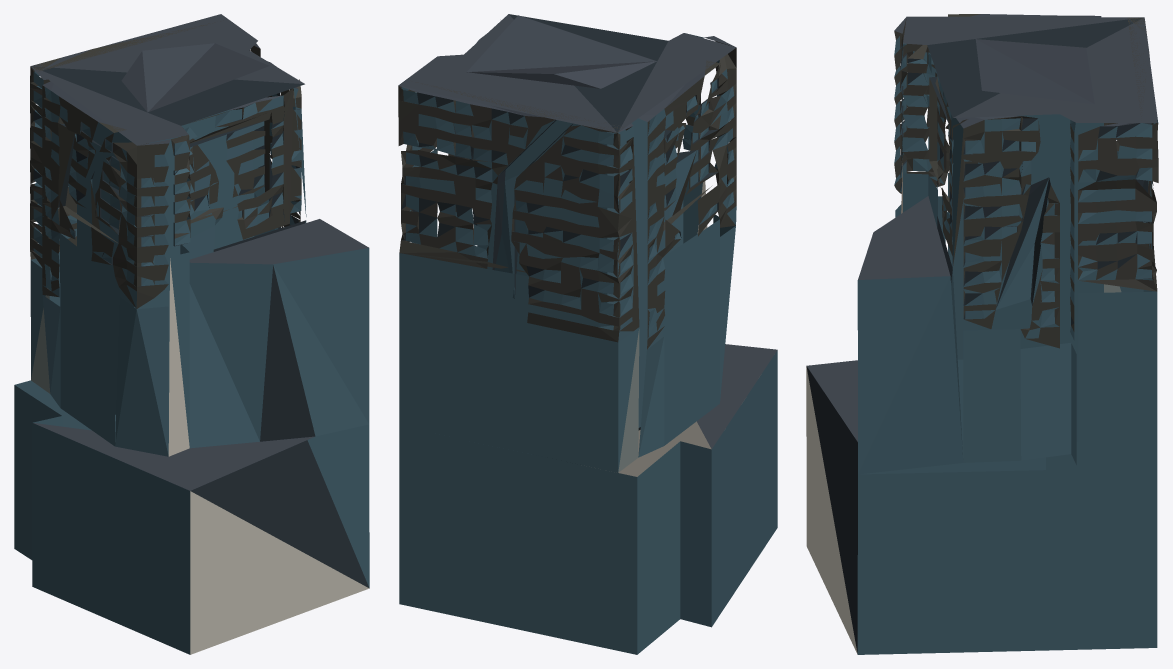
Rendered from the-rock.lod2.glb.
The picture shows the model from 3 angles, left to right: view 1: azimuth 30°, elevation 25°; view 2: azimuth 150°, elevation 25°; view 3: azimuth 270°, elevation 25°; orthographic projection. The views are drawn at different scales.
Parts seen in each view (by area): view 1: lod2; view 2: lod2; view 3: lod2.
Part boxes in pixels (box(x1,y1,x2,y2)): lod2: box(14, 14, 369, 654); lod2: box(398, 14, 777, 654); lod2: box(806, 14, 1158, 654).
Size of the model in its own units: 48.16 by 90.12 by 53.15.
